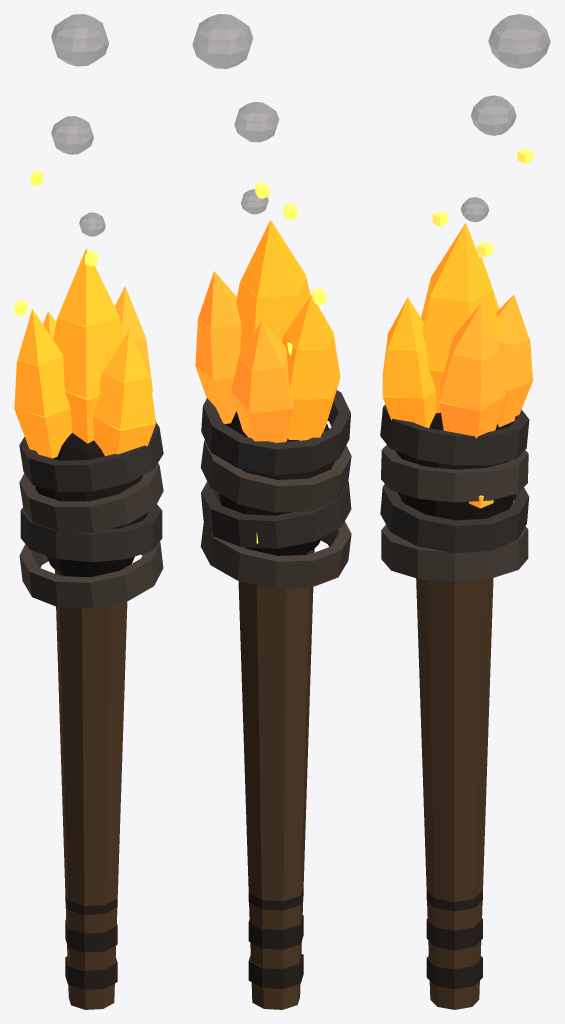
Rendered from sootmask_brand.glb.
The picture shows the model from 3 angles, left to right: view 1: azimuth 30°, elevation 25°; view 2: azimuth 150°, elevation 25°; view 3: azimuth 270°, elevation 25°; orthographic projection. The views are drawn at different scales.
Visible parts, largest first — view 1: sootmask_brand; view 2: sootmask_brand; view 3: sootmask_brand.
Boxes of the visible parts, x1=… form: sootmask_brand: x1=14, y1=14, x2=163, y2=1009; sootmask_brand: x1=192, y1=14, x2=351, y2=1009; sootmask_brand: x1=380, y1=14, x2=550, y2=1009.
Bounding box in the file's own units: 0.2539 × 1.79 × 0.2783.
